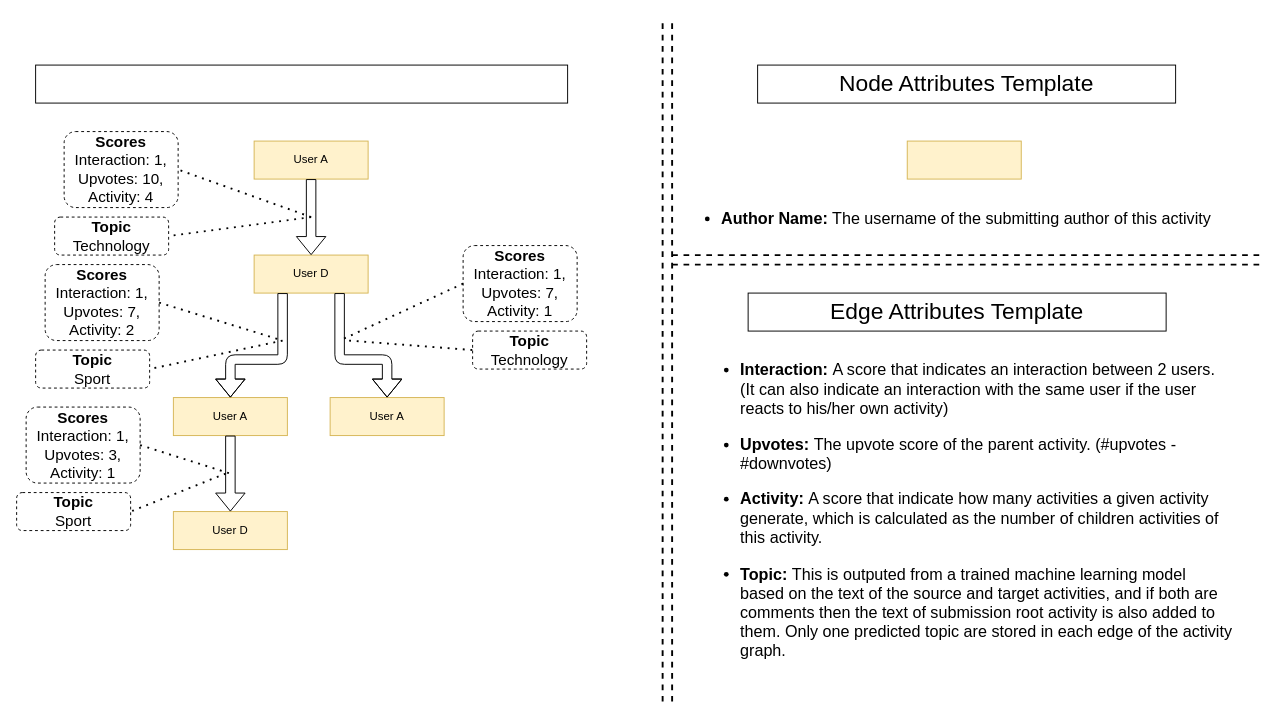
The diagram is 1282 pixels wide and 719 high, and some of its shapes have lost their labels. Here are the shapes that lost their labels. From the top down, the centre of each, then its label:
(301,83): Activity Graph
(963,159): Author Name
